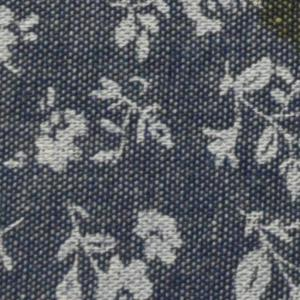Oil Stain: (254, 1, 300, 62)
